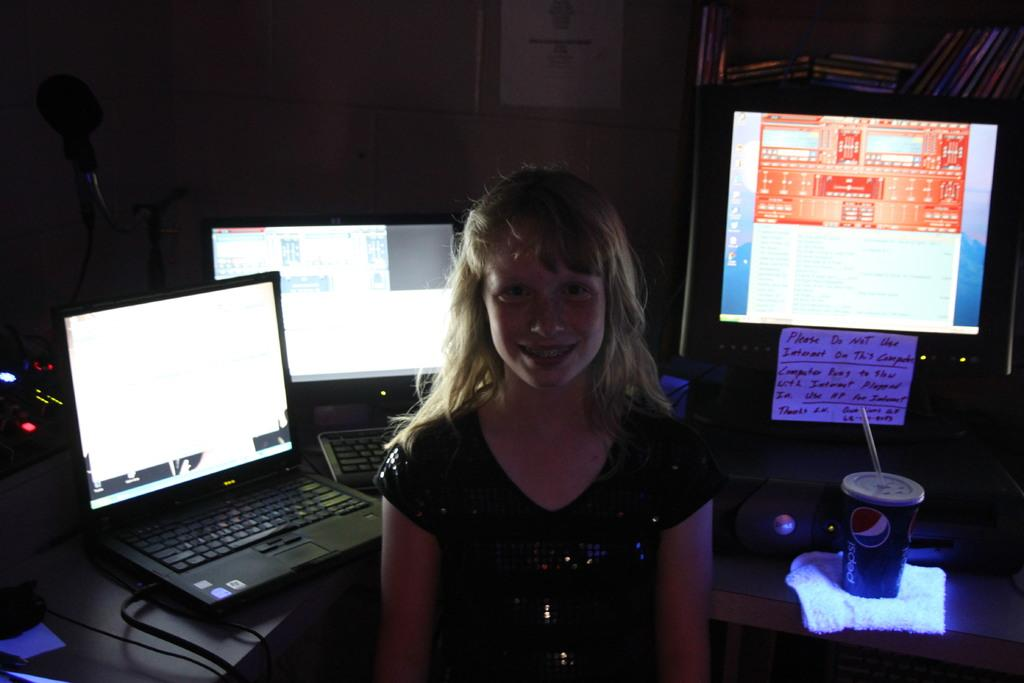Sem Máscara: (480, 243, 601, 387)
